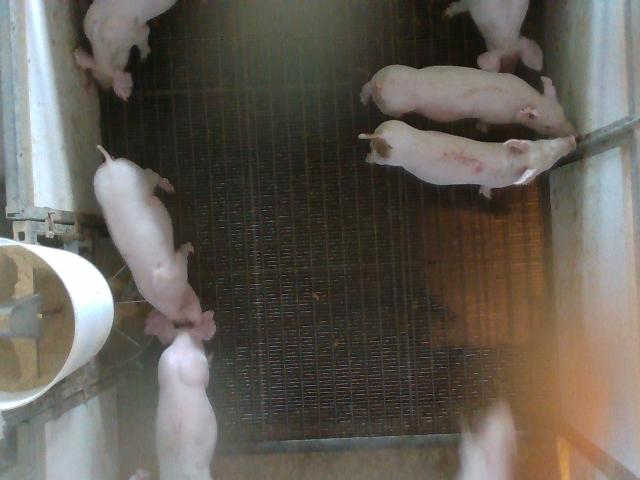pig-5: (359, 120, 575, 196)
